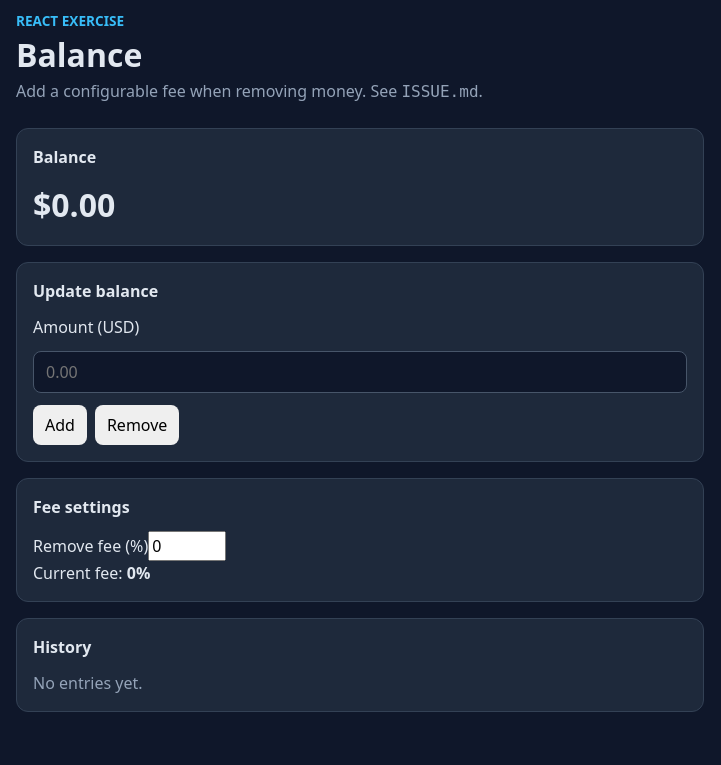
Scenario: App › rejects remove amounts above the current balance
Type "20" into the field labelled "Amount (USD)". click: {"x": 360, "y": 372}
box: [33,351,687,393]
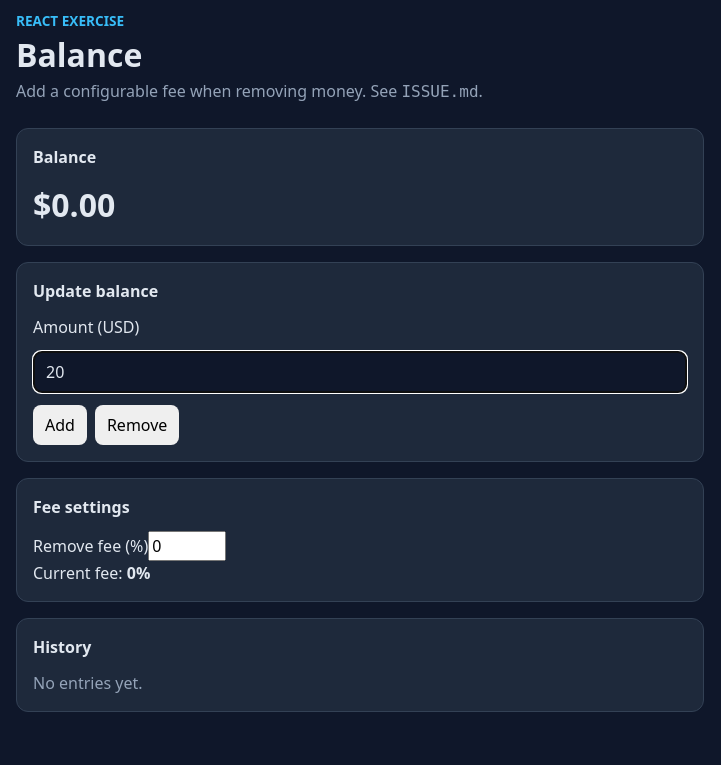
Click the button "Remove". click: {"x": 137, "y": 425}
box: [95,405,179,445]
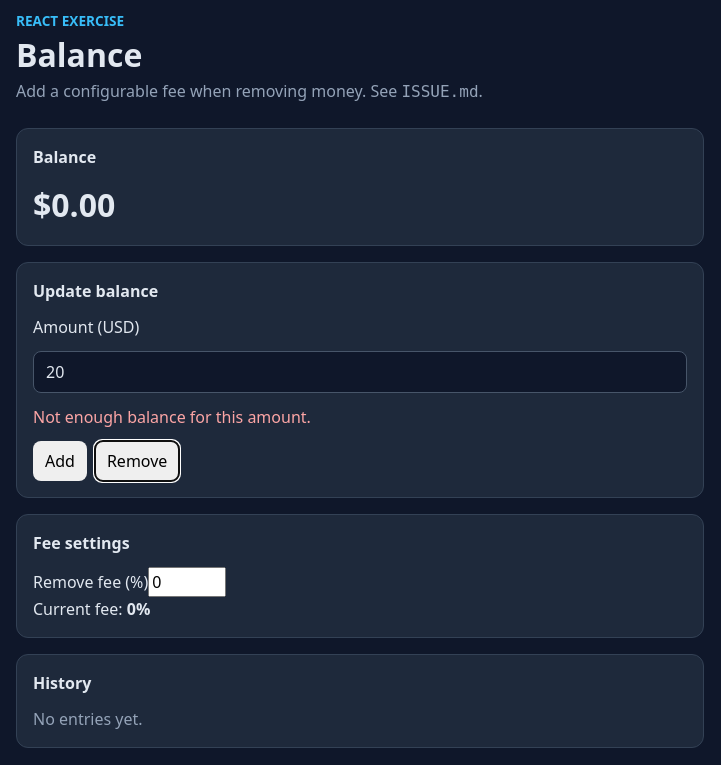
Result: the text "Not enough balance for this amount." is shown at [33,406,311,428]
